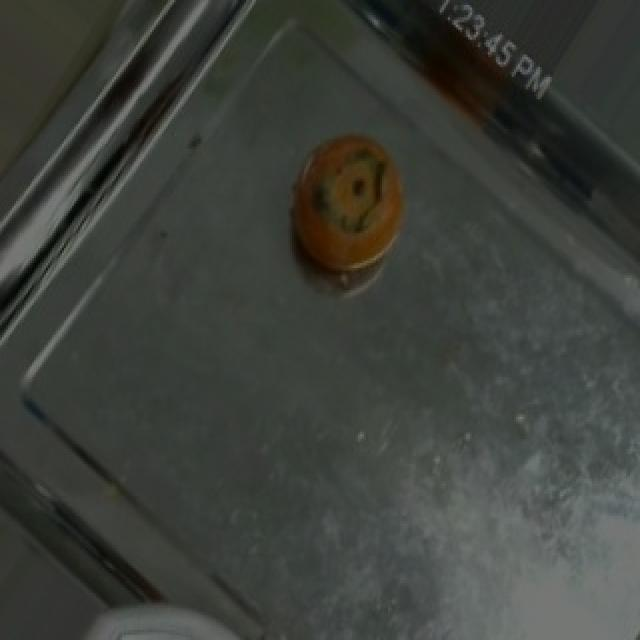Fruit: (270, 119, 426, 290)
